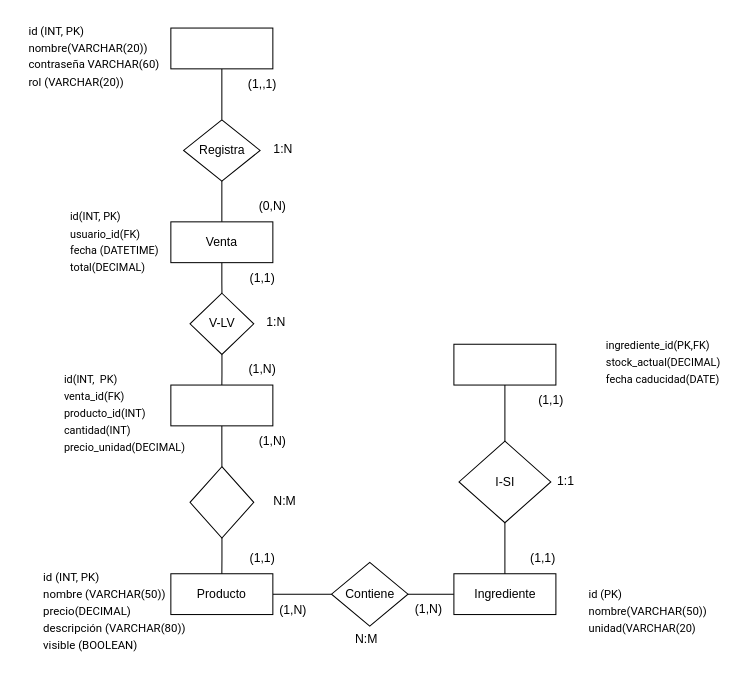
The diagram is 752 pixels wide and 692 high, and some of its shapes have lost their labels. Each missing label, with the centre of its shape:
"LV-P" belongs at [221,502].
"Línea_Venta" belongs at [221,405].
"stock_ingrediente" belongs at [504,364].
"Usuario" belongs at [221,48].
